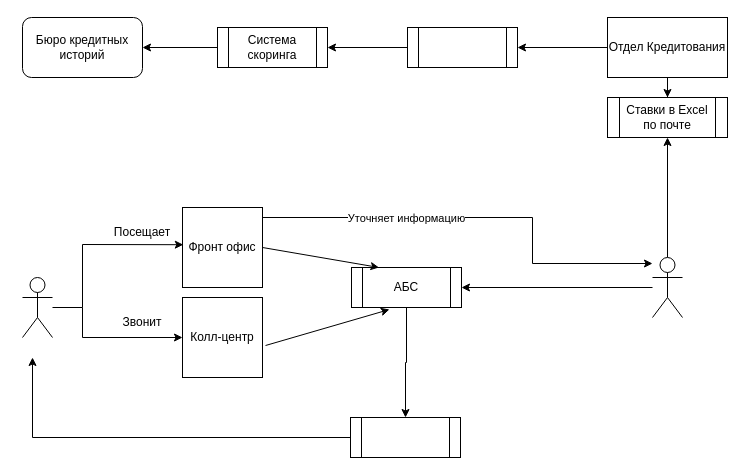
The diagram is 745 pixels wide and 475 high, and some of its shapes have lost their labels. The shapes that lost their labels are listed below. From the top down, each one's box as (x1, y1, x2, y2) in pixels, then its label:
(406, 26, 518, 68): Кредитный конвеер
(22, 276, 52, 338): Клиент
(652, 256, 682, 318): Сотрудник бэк офиса
(350, 416, 460, 458): СМС-шлюз
